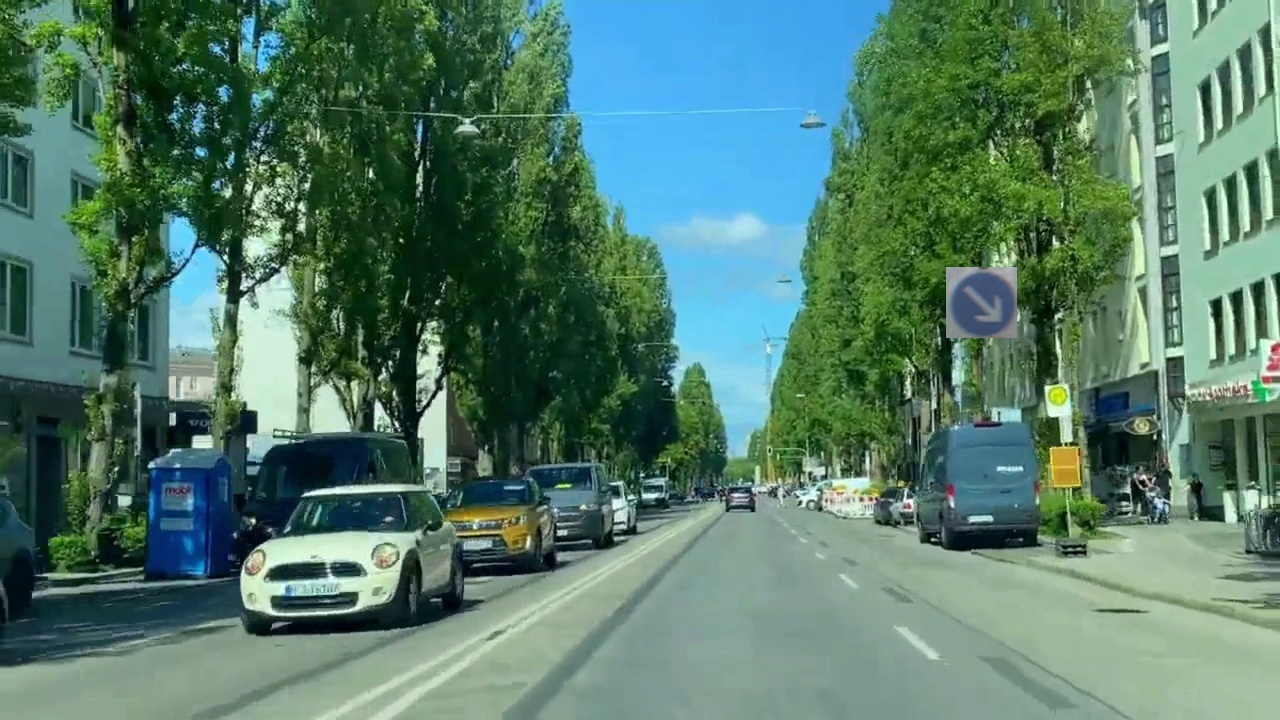Keep right: (946, 267, 1017, 338)
